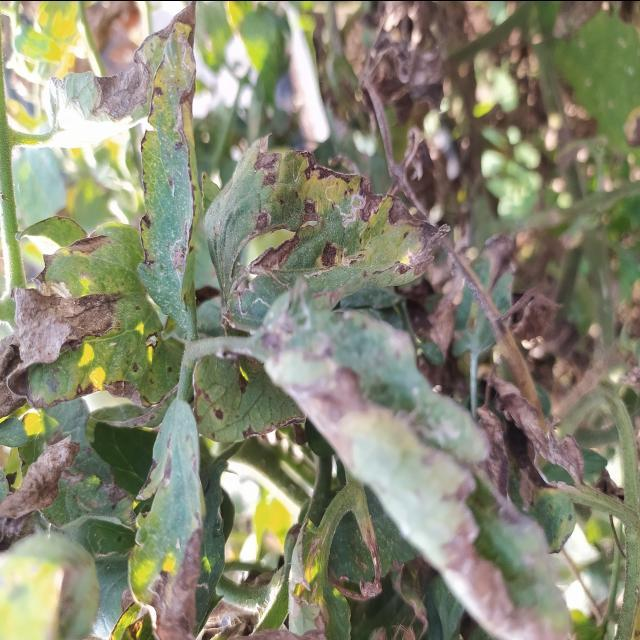Tomato mosaic virus leaf: (232, 136, 459, 310), (130, 2, 205, 300)
